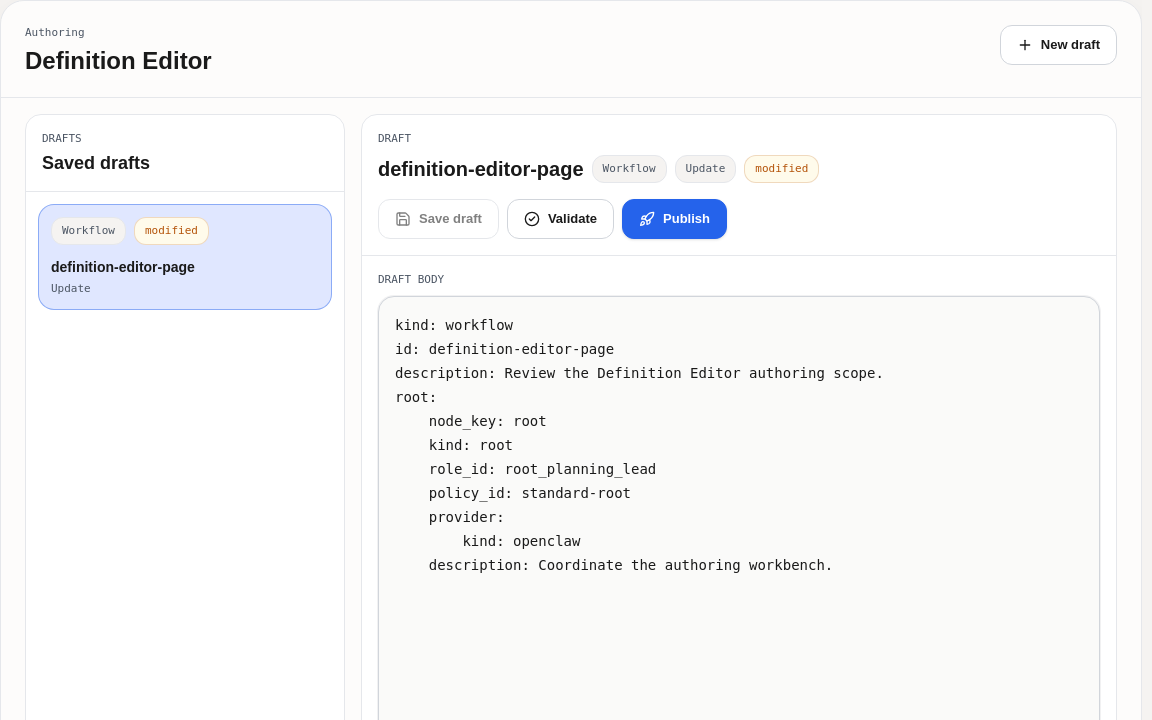
Test: DefinitionEditorPage › blocks clean-draft navigation while validation owns the exact response
The image size is (1152, 720).
Click the button "Validate".
click(560, 219)  # box [507,199,614,239]
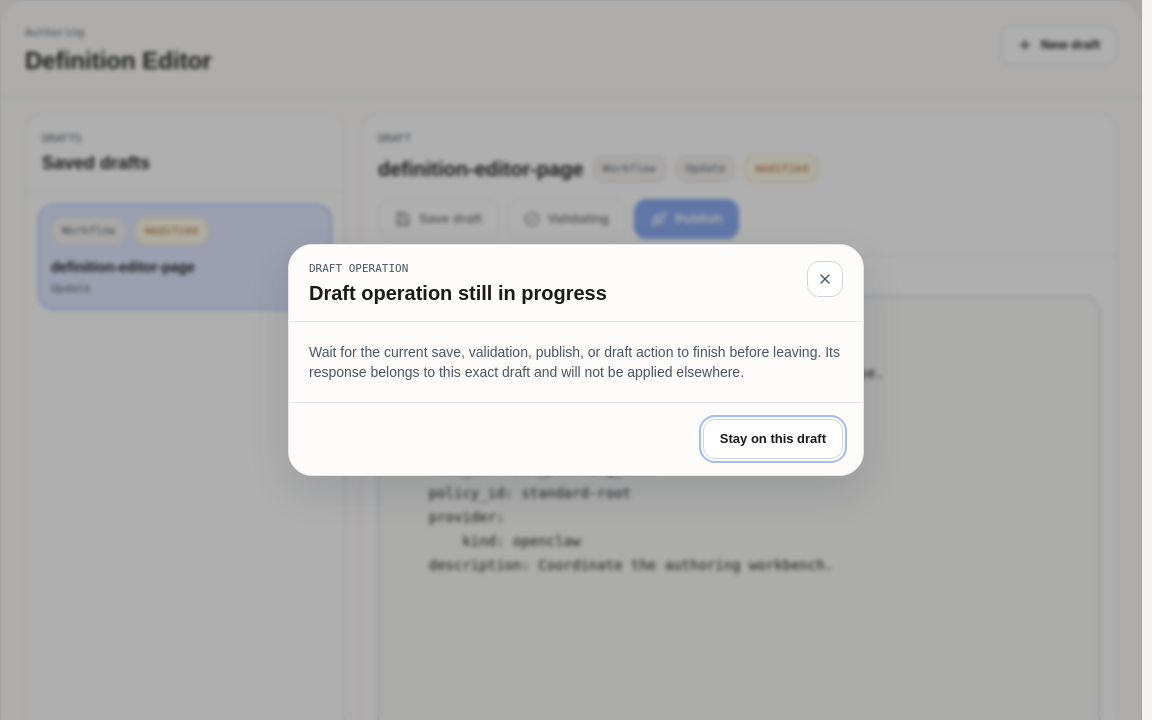
expect the text "belongs to this exact draft" is shown: met, box [309,344,840,380]
Click the button "Stay on this draft".
click(773, 439)  # box [703,419,843,459]
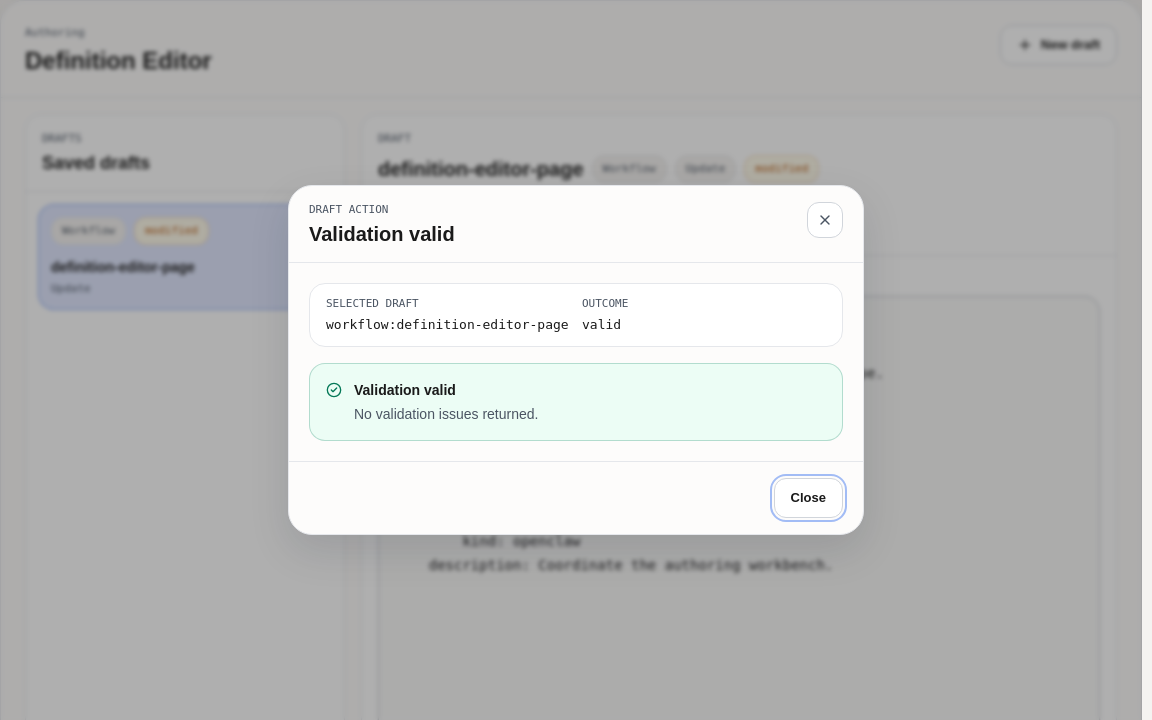
expect the heading "Definition Editor" is shown: met, box [25,49,212,73]
expect the dialog "Validation valid" is shown: met, box [288,185,864,535]
